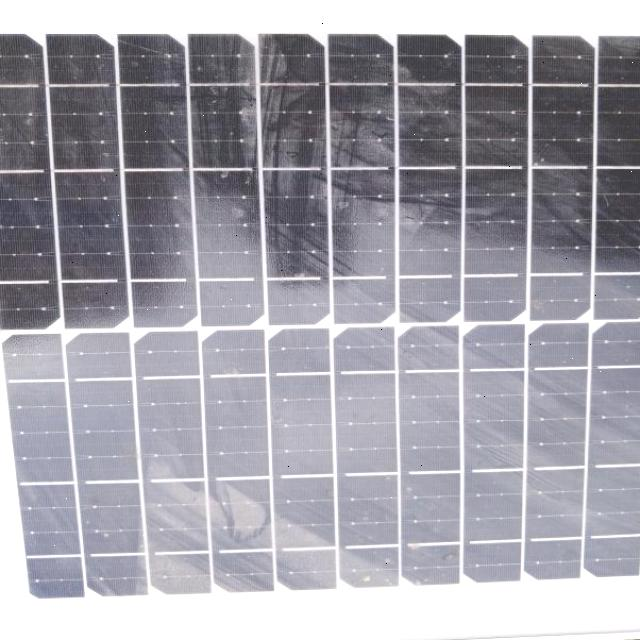Surface Contaminant: (0, 24, 382, 604)
